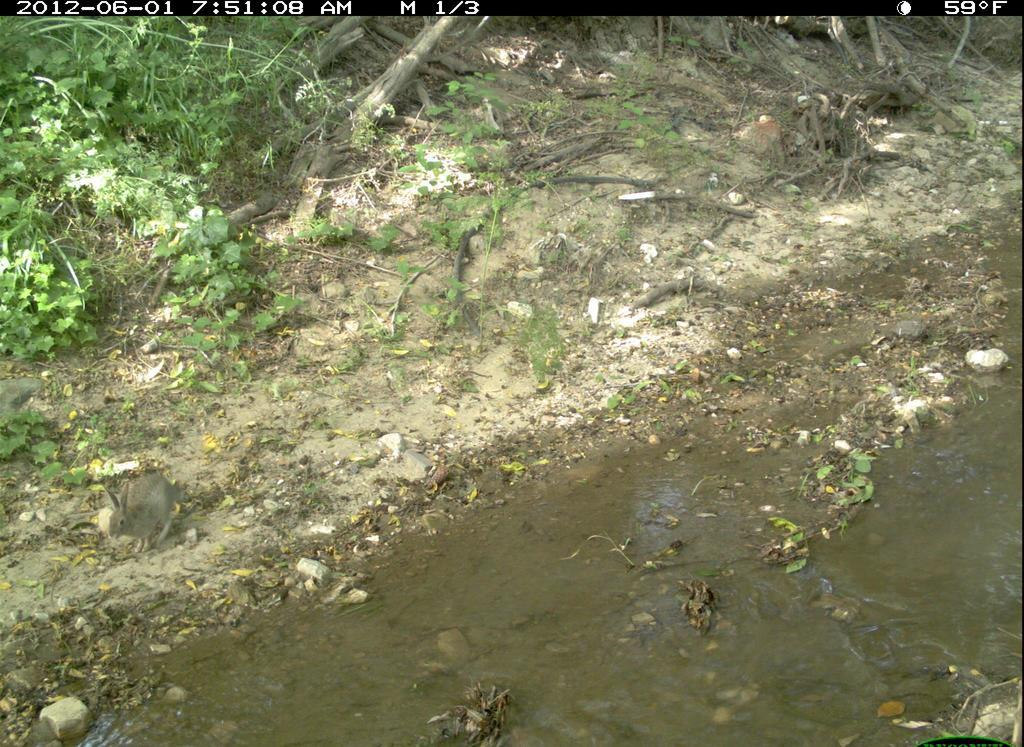rabbit: (75, 449, 209, 577)
